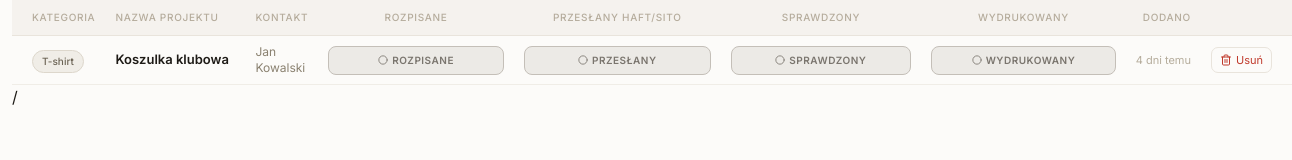
Scenario: ProjektTabela › klik wiersza (poza flagą) nawiguje do szczegółów
Click the text "Koszulka klubowa" at point(175, 60), box x1=115 y1=50 x2=235 y2=70
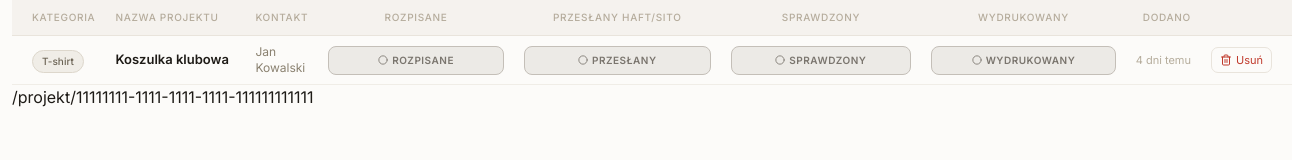
Check: the text with test id "location" reads "/projekt/11111111-1111-1111-1111-111111111111", box x1=12 y1=87 x2=314 y2=107
